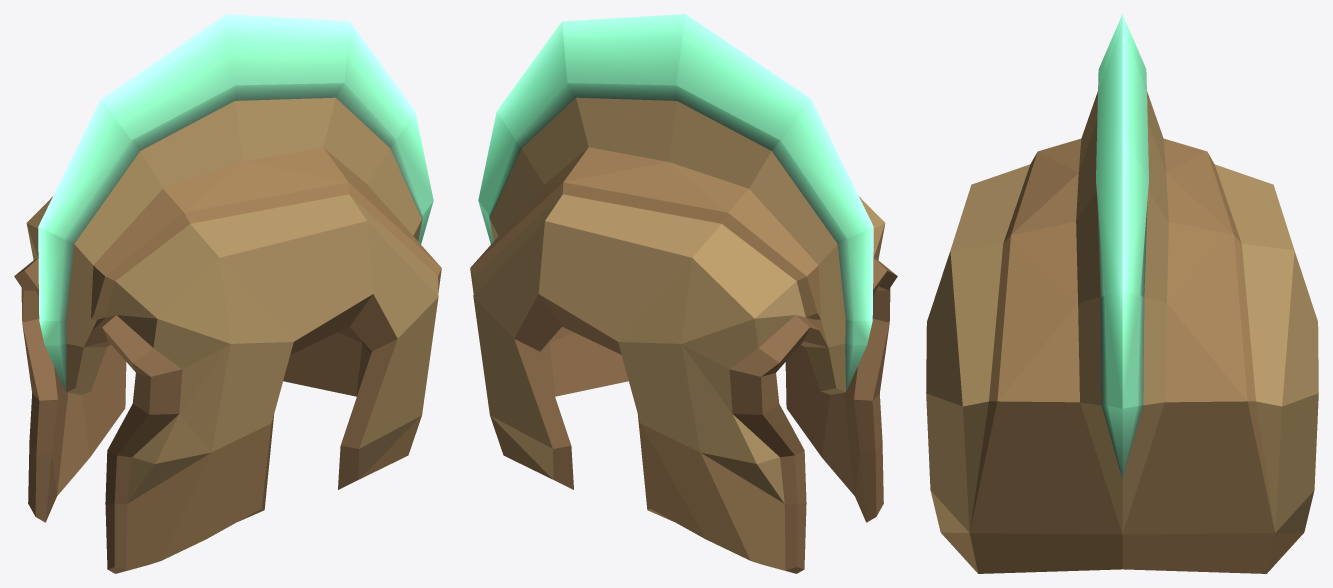
Rendered from Chr_Attach_Helmet_05.fbx.
3 renders of one model, left to right at view 1: azimuth 30°, elevation 25°; view 2: azimuth 150°, elevation 25°; view 3: azimuth 270°, elevation 25°, orthographic. The views are drawn at different scales.
Parts seen in each view (by area): view 1: Chr_Attach_Helmet_05; view 2: Chr_Attach_Helmet_05; view 3: Chr_Attach_Helmet_05.
Boxes of the visible parts, bbox=[...] form: Chr_Attach_Helmet_05: bbox=[14, 14, 441, 573]; Chr_Attach_Helmet_05: bbox=[470, 14, 897, 573]; Chr_Attach_Helmet_05: bbox=[926, 14, 1318, 573].
Bounding box in the file's own units: 36.08 × 27.11 × 43.49.
Materials: 1 (1 with a texture image).
